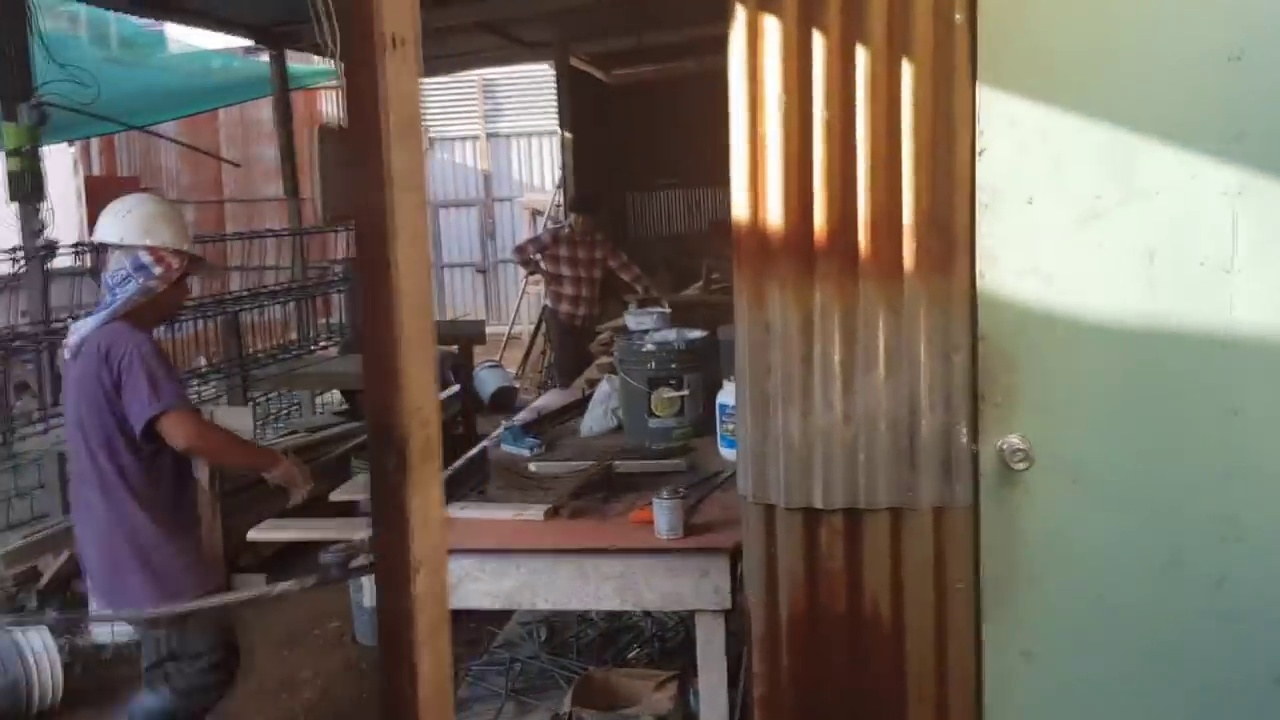helmet: (73, 189, 195, 261)
helmet-off: (563, 192, 605, 239)
helmet-on: (74, 187, 193, 311)
person: (59, 169, 292, 716), (512, 192, 629, 388)
